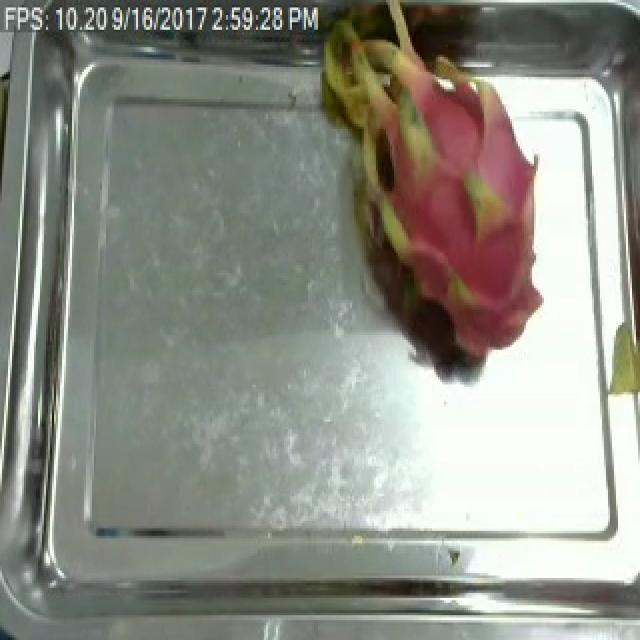fruit: (284, 2, 560, 384)
